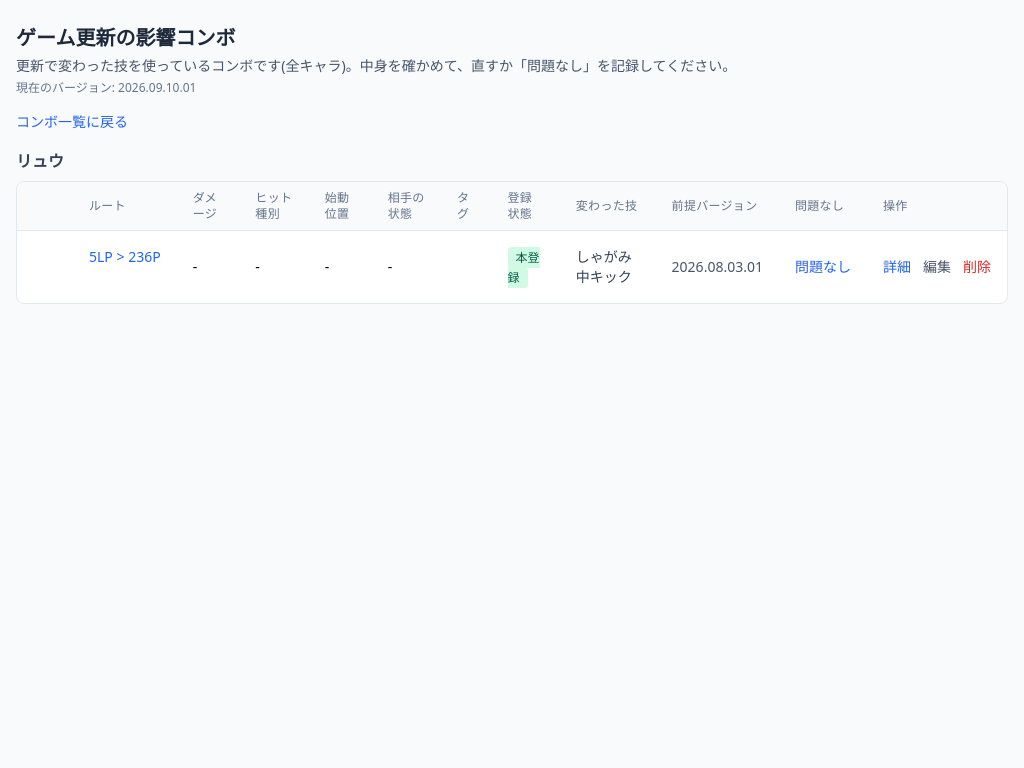
GameUpdateCombosPage › ★［削除］は押すと確認ダイアログが出る(押しても何も起きないボタンにしない)
Click the button "削除". click: (977, 266)
box: [963,256,991,276]
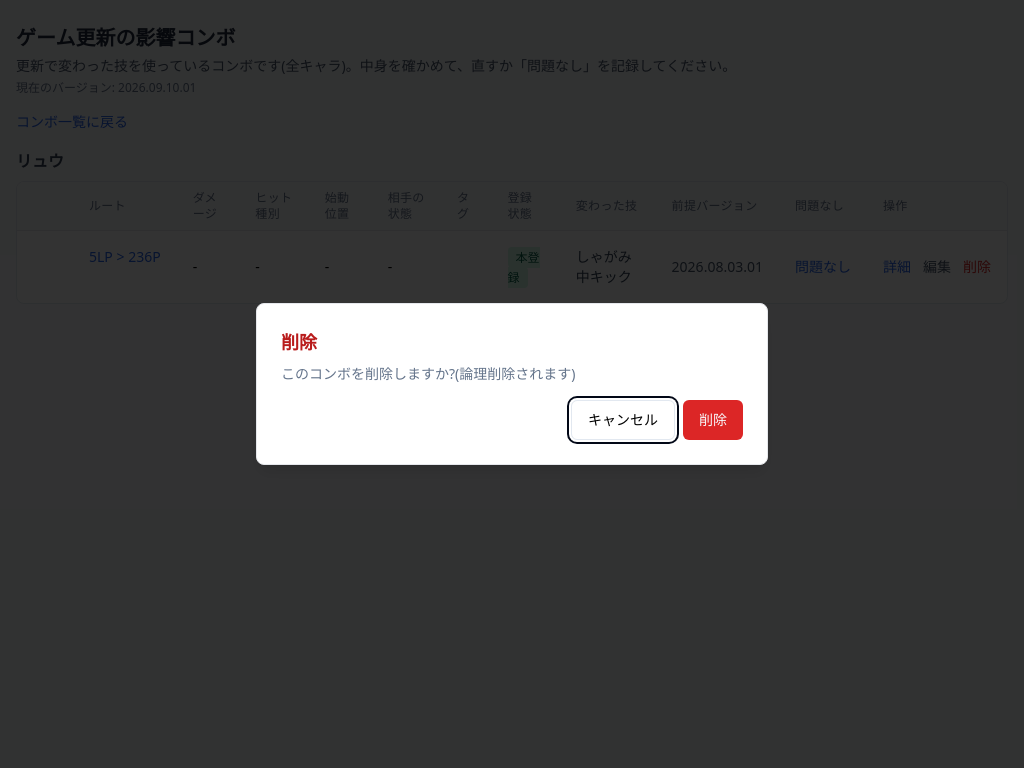
Result: the text "このコンボを削除しますか?(論理削除されます)" is shown at [281,364,576,383]
